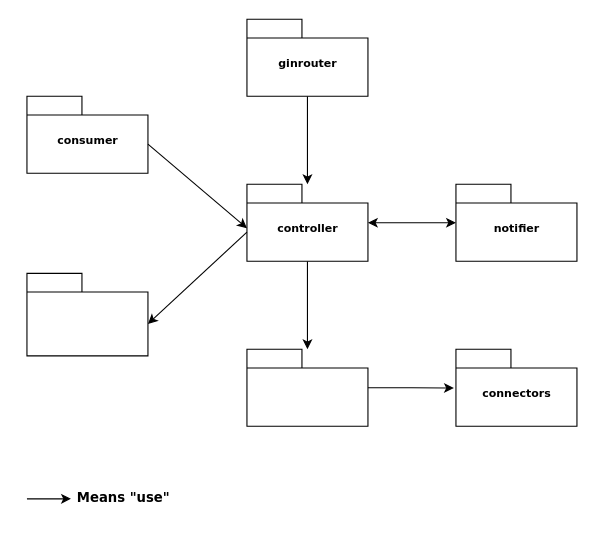
Some shapes in this 596 by 534 pixel diagram are drawn without their labels. The shapes that lost their labels are listed below. From the top down, each one's centre as x and y in pixels, then its label:
At (x=87, y=314): "producer".
At (x=307, y=387): "repository".
